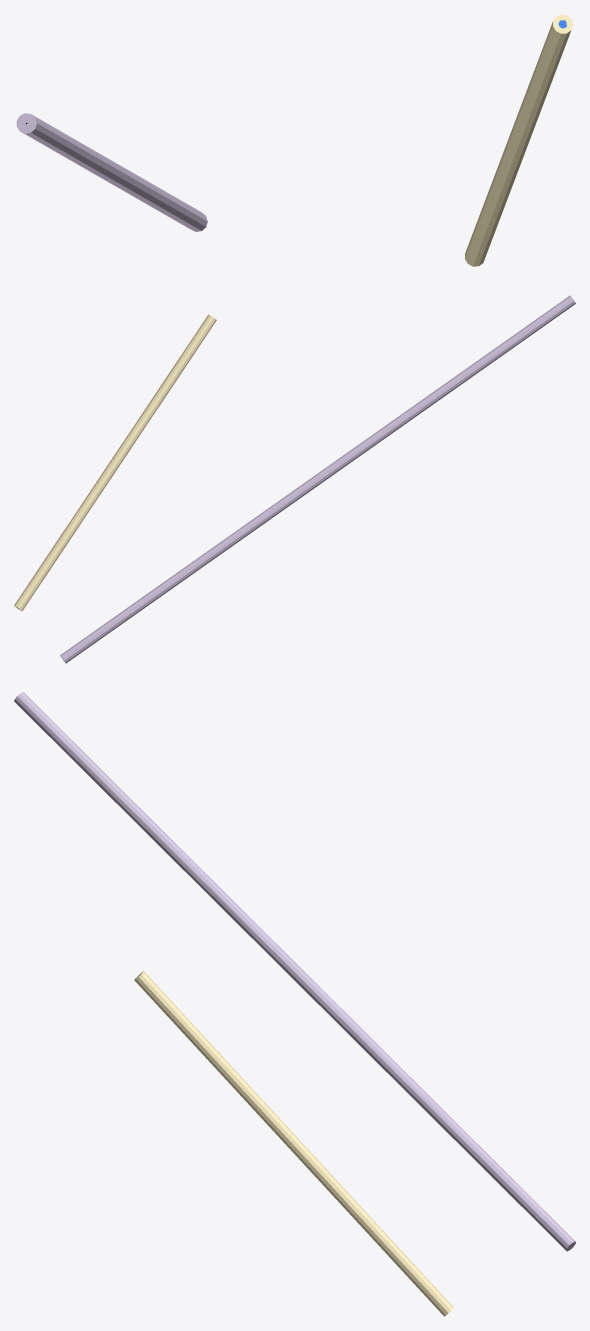
The model's file is tile_339.glb.
3 renders of one model, top to bottom at view 1: azimuth 30°, elevation 25°; view 2: azimuth 150°, elevation 25°; view 3: azimuth 270°, elevation 25°, orthographic. The views are drawn at different scales.
Size of the model in its own units: 11 by 7.67 by 10.35.
